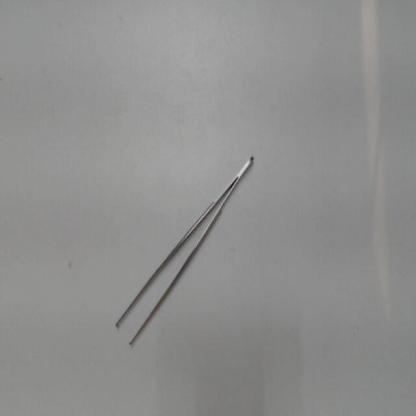Gillies Toothed Dissector: (103, 147, 265, 356)
